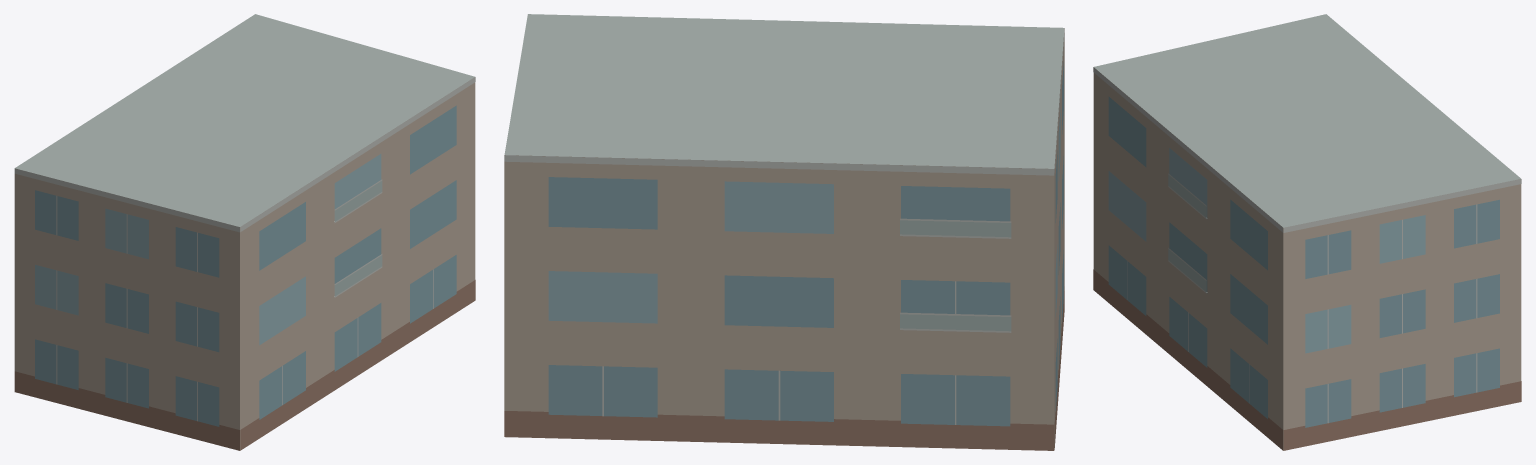
The model's file is survey-upis-32838851.glb.
3 views of the same model, side by side, from view 1: azimuth 30°, elevation 25°; view 2: azimuth 150°, elevation 25°; view 3: azimuth 270°, elevation 25° (orthographic). The views are drawn at different scales.
Parts seen in each view (by area): view 1: survey-upis-32838851.tmp; view 2: survey-upis-32838851.tmp; view 3: survey-upis-32838851.tmp.
Boxes of the visible parts, x1=… form: survey-upis-32838851.tmp: x1=14, y1=14, x2=475, y2=450; survey-upis-32838851.tmp: x1=504, y1=14, x2=1064, y2=450; survey-upis-32838851.tmp: x1=1093, y1=14, x2=1521, y2=450.
Size of the model in its own units: 21.18 by 10.3 by 17.92.
